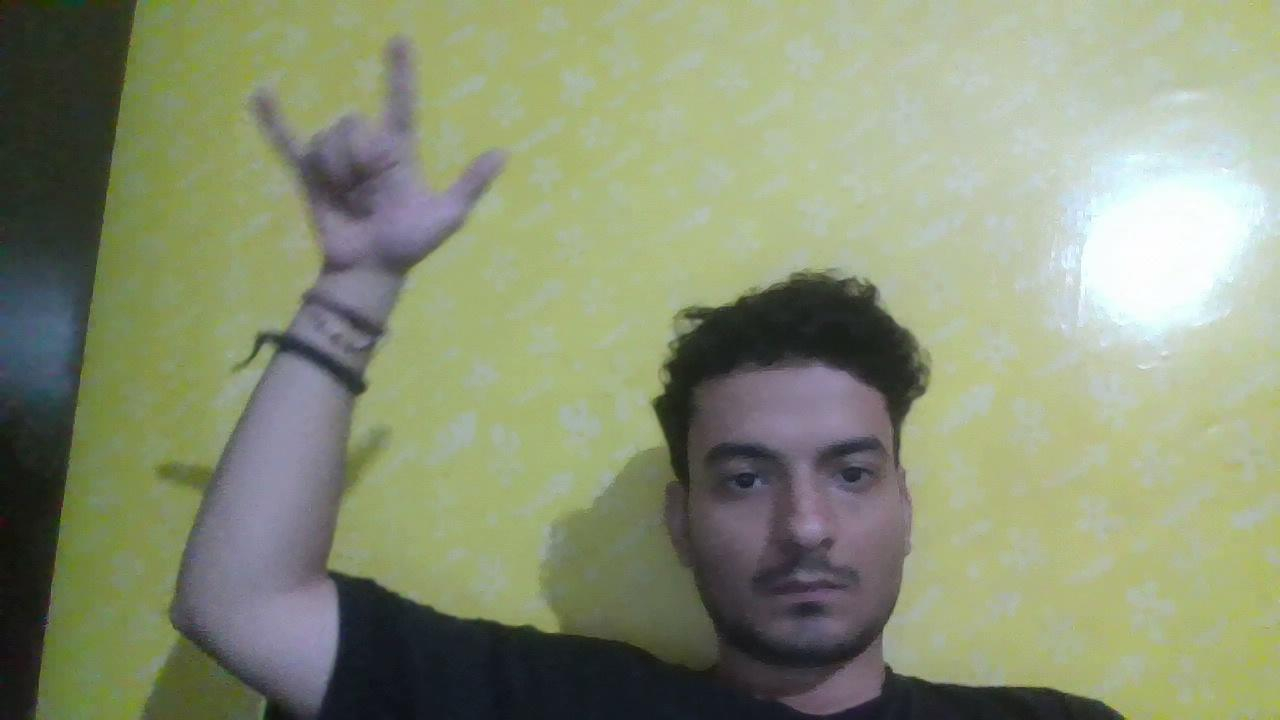Loveyou: (217, 76, 519, 308)
